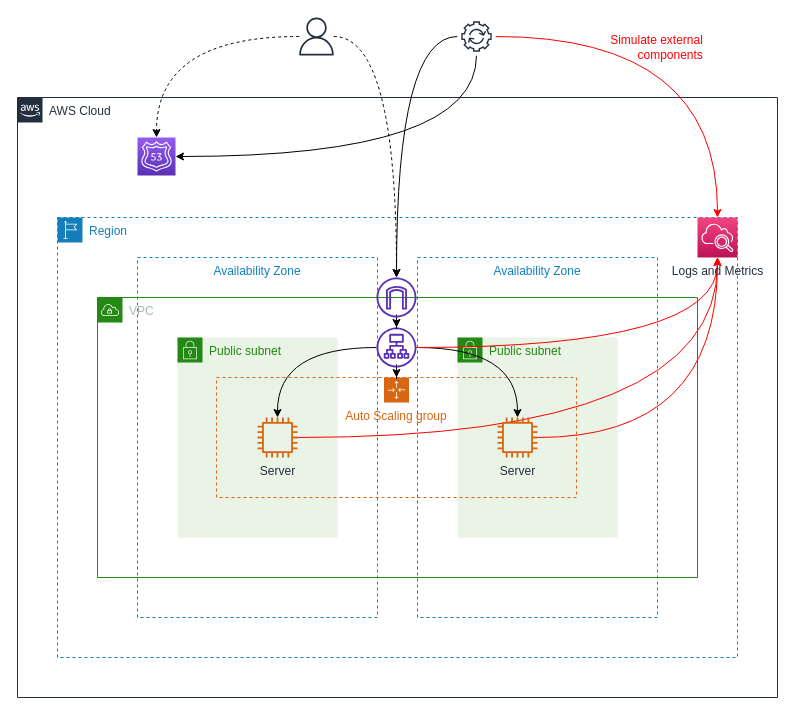
Some shapes in this 795 by 715 pixel diagram are drawn without their labels. The shapes that lost their labels are listed below. From the top down, each one's centre as x and y in pixels, then its label:
At [316,36]: "Real User".
At [476,36]: "Synthetic Load".
